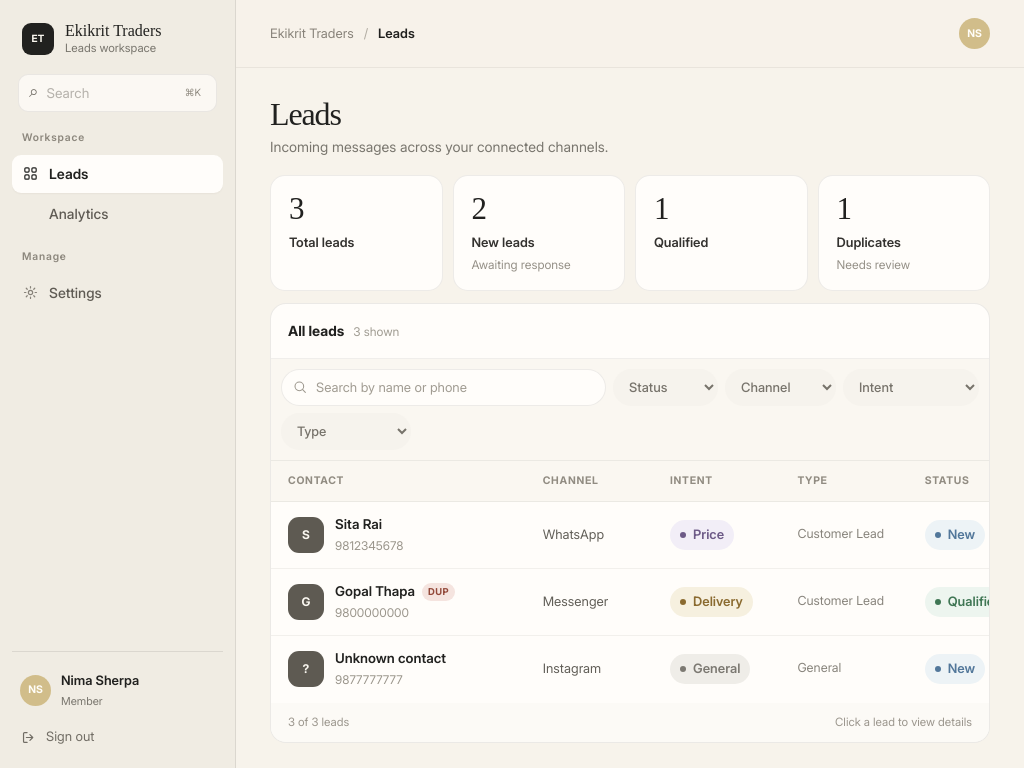
Test: DashboardPage — search › filters by contact name, case-insensitively
The width and height of the screenshot is (1024, 768).
Expected: the text "Sita Rai" is shown, [335,516,382,532]
Type "sita" into the field with placeholder "Search by name or phone" at (444, 387), box [281,369,606,406]
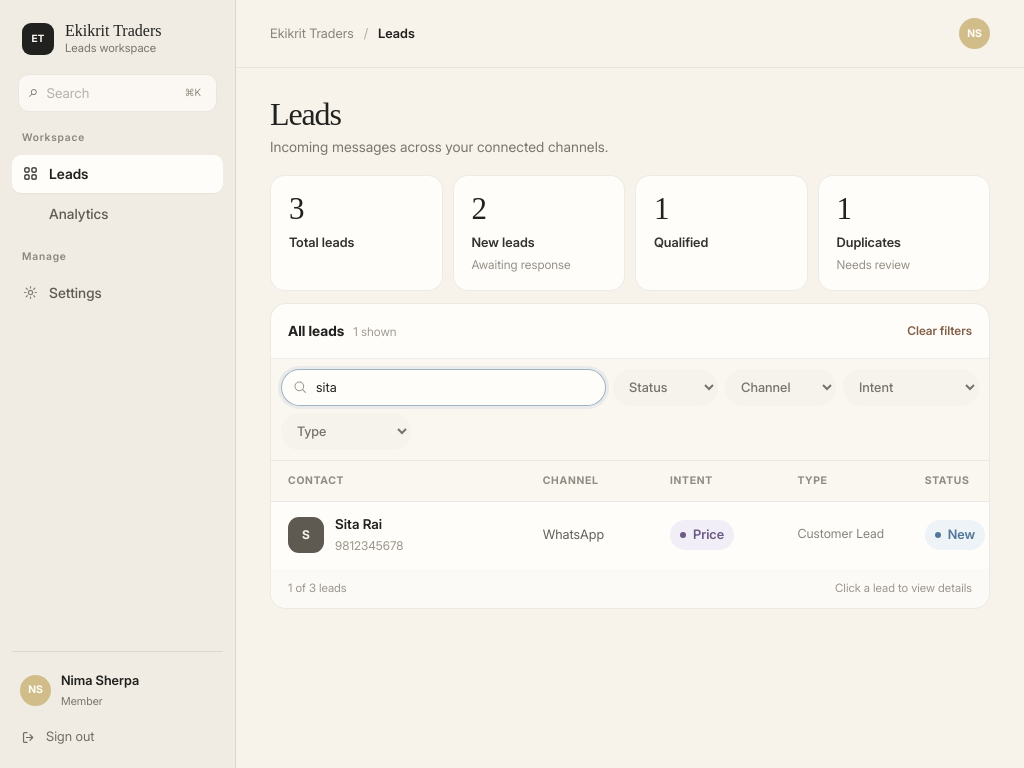
Expected: the text "Sita Rai" is shown, [335,516,382,532]
Now the text "Gopal Thapa" is gone
